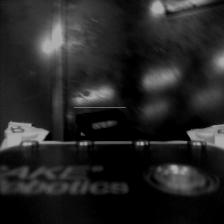Door Handle: (74, 107, 126, 136)
